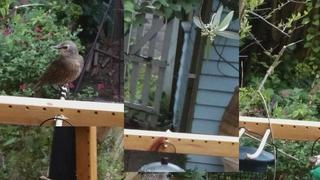starling: (29, 40, 84, 100)
